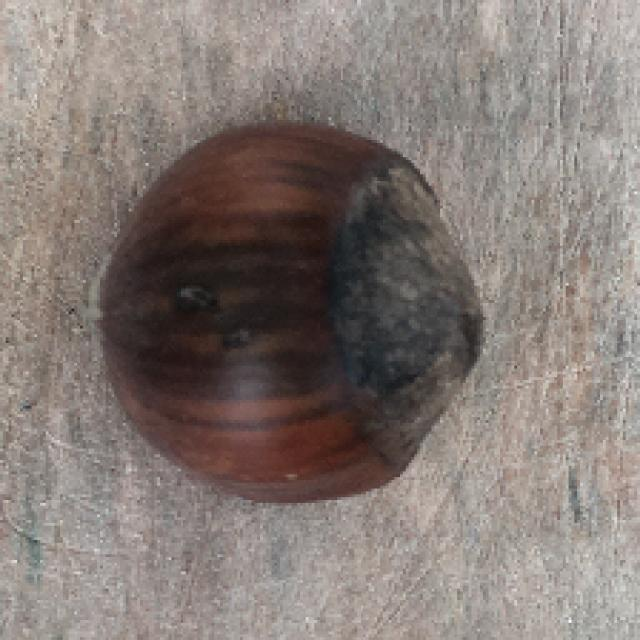damagedHazelnut: (70, 123, 486, 506)
